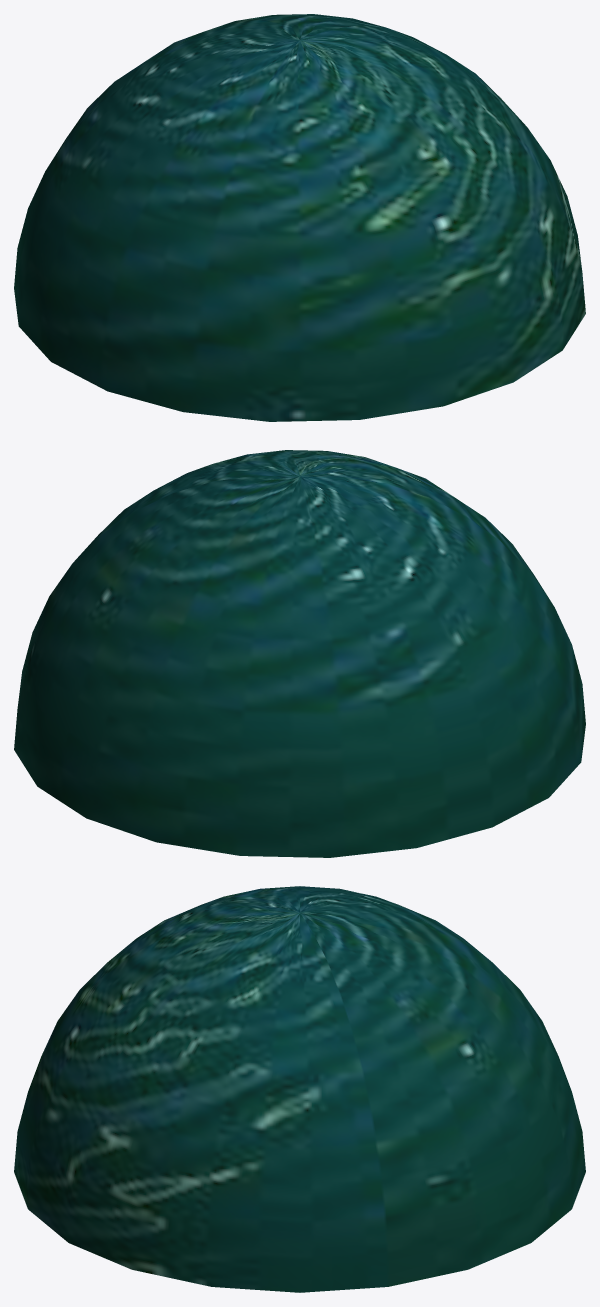
The model's file is AguaFuente.obj.
The picture shows the model from 3 angles, top to bottom: view 1: azimuth 30°, elevation 25°; view 2: azimuth 150°, elevation 25°; view 3: azimuth 270°, elevation 25°; orthographic projection.
Parts seen in each view (by area): view 1: AguaFuente fuente; view 2: AguaFuente fuente; view 3: AguaFuente fuente.
Part boxes in pixels (x1,y1,x2,y2): AguaFuente fuente: [14, 14, 585, 421]; AguaFuente fuente: [14, 450, 585, 857]; AguaFuente fuente: [14, 886, 585, 1292].
Bounding box in the file's own units: 0.8 × 0.4 × 0.8.
1 material, 1 textured.
